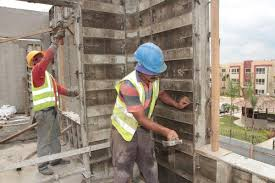casco: (133, 41, 168, 74), (25, 50, 45, 68)
